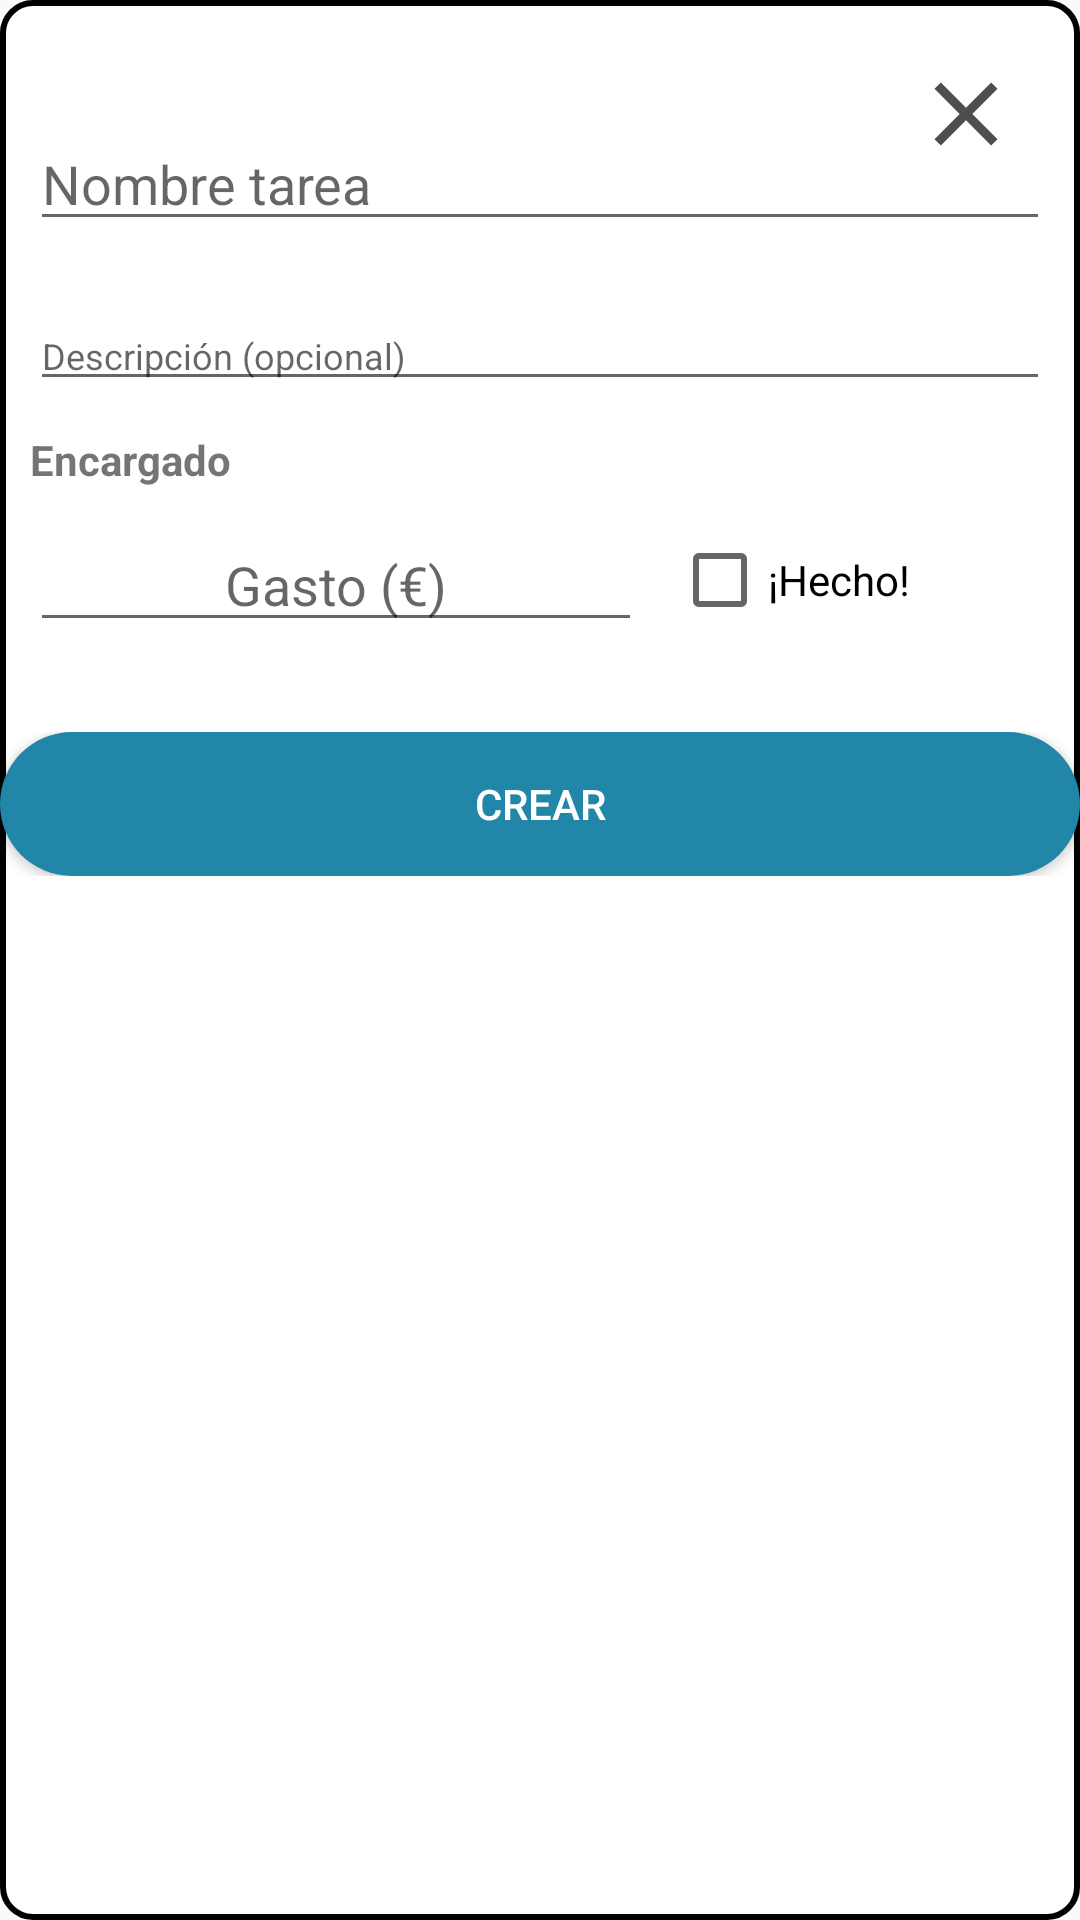

Screen size 1080*1920. Icon name, then its center in pixels as (x=x, y=y):
close: (x=966, y=114)
